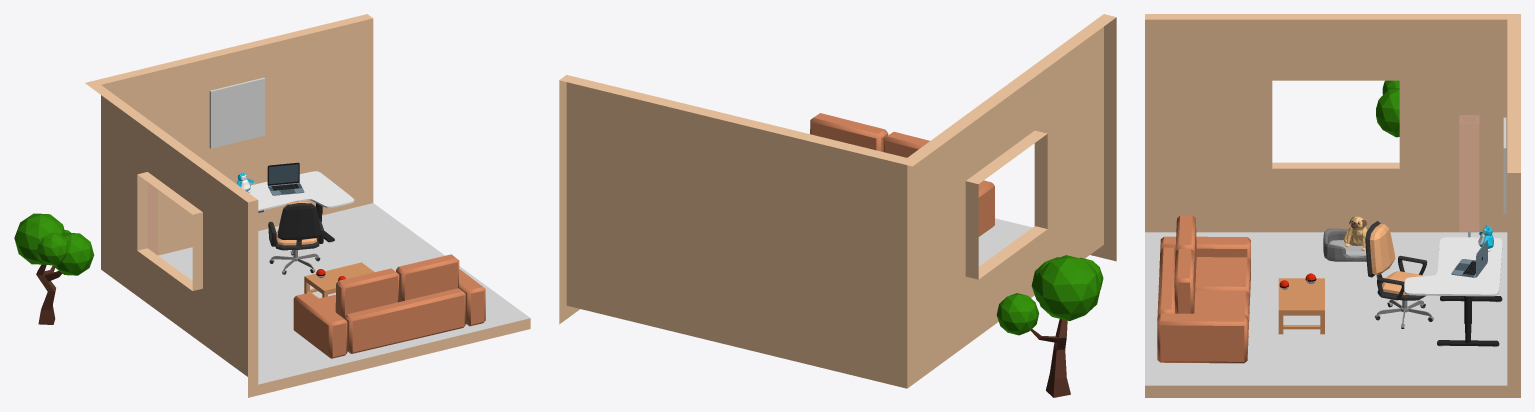
File: studyRoom.gltf
3 views of the same model, side by side, from view 1: azimuth 30°, elevation 25°; view 2: azimuth 150°, elevation 25°; view 3: azimuth 270°, elevation 25° (orthographic). The views are drawn at different scales.
Parts seen in each view (by area): view 1: WallAndFloor, Sofa, Tree, Walldrawing, OfficeChair, Desk, CoffeTable, Laptop, SquareFloorLamp; view 2: WallAndFloor, Tree, Sofa; view 3: WallAndFloor, Sofa, Desk, OfficeChair, SquareFloorLamp, CoffeTable, Tree, DogBed, Laptop, Pug, Walldrawing.
Boxes of the visible parts, x1,y1,x2,y2 form: WallAndFloor: (85, 14, 530, 397); Sofa: (293, 254, 485, 358); Tree: (14, 213, 94, 324); Walldrawing: (209, 77, 265, 148); OfficeChair: (268, 200, 323, 274); Desk: (249, 171, 354, 242); CoffeTable: (304, 262, 374, 298); Laptop: (267, 162, 304, 195); SquareFloorLamp: (147, 182, 157, 255); WallAndFloor: (559, 14, 1116, 388); Tree: (996, 255, 1103, 397); Sofa: (810, 113, 994, 236); WallAndFloor: (1145, 14, 1520, 397); Sofa: (1157, 215, 1250, 363); Desk: (1404, 237, 1502, 347); OfficeChair: (1365, 221, 1433, 328); SquareFloorLamp: (1459, 115, 1479, 237); CoffeTable: (1278, 278, 1324, 334); Tree: (1376, 80, 1399, 137); DogBed: (1323, 228, 1367, 261); Laptop: (1451, 239, 1487, 277); Pug: (1343, 216, 1367, 250); Walldrawing: (1503, 117, 1506, 213).
Bounding box in the file's own units: 14.31 × 6.86 × 10.38.
